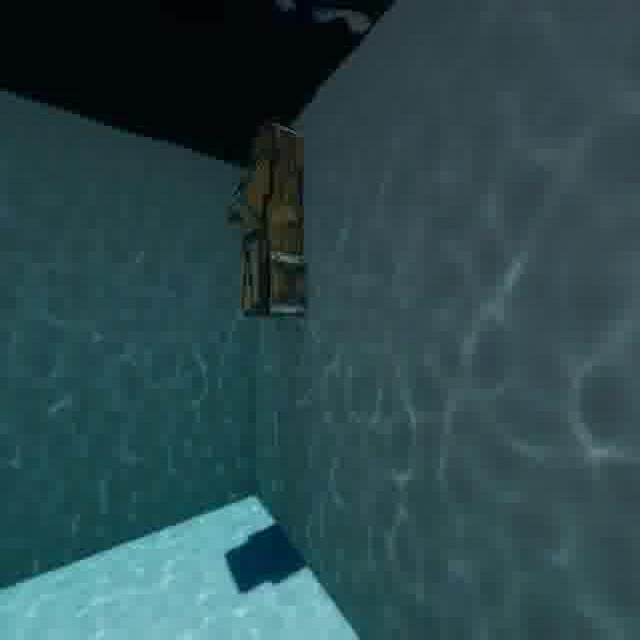Control Panel: (226, 116, 323, 319)
